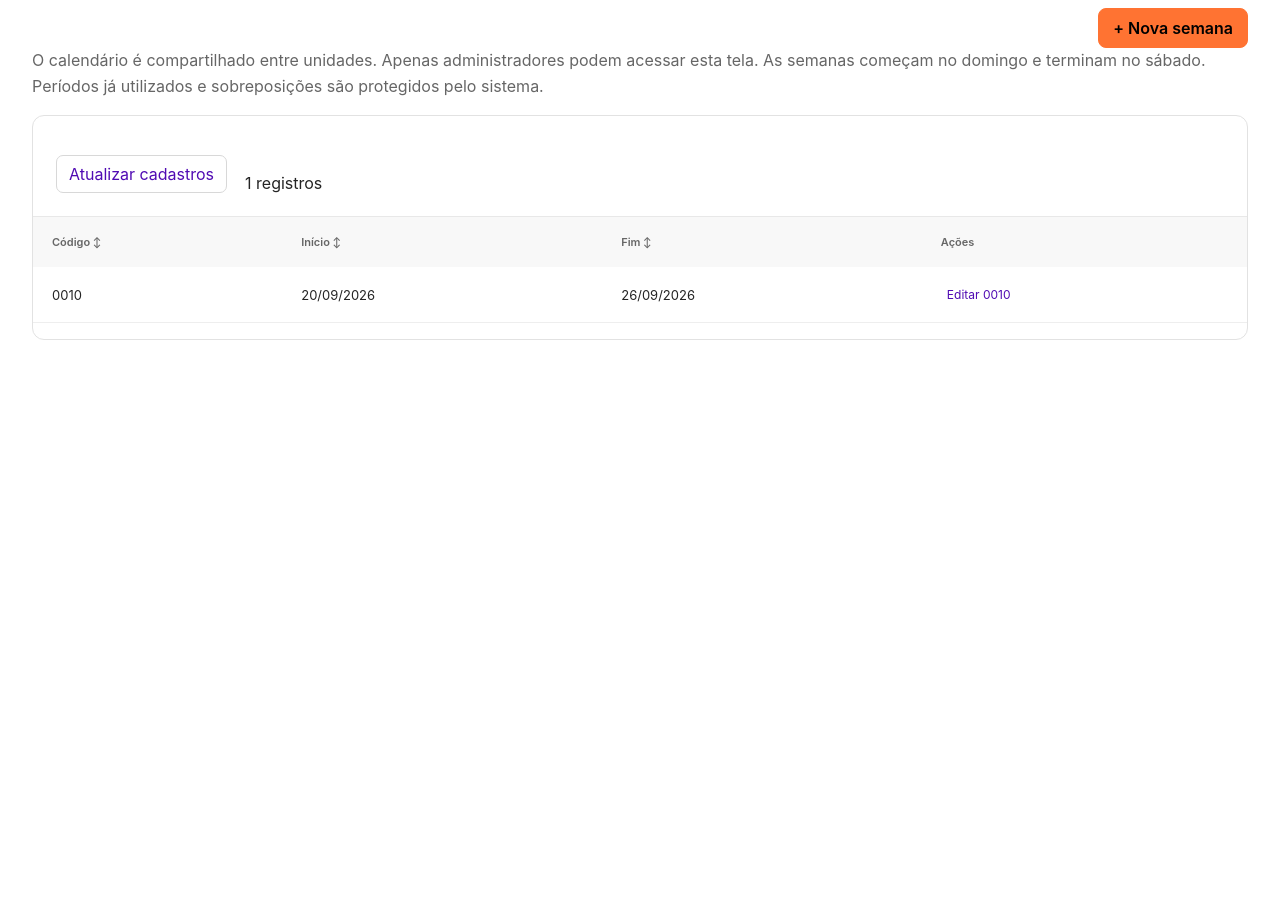
Test case: consulta a semana pelo código como no VBA e salva no registro existente
This screenshot has width=1280, height=900.
Expected: the button "Editar 0010" is shown, [941,286,1016,303]
Click the button "+ Nova semana" at (1173, 28), box [1098,8,1248,48]
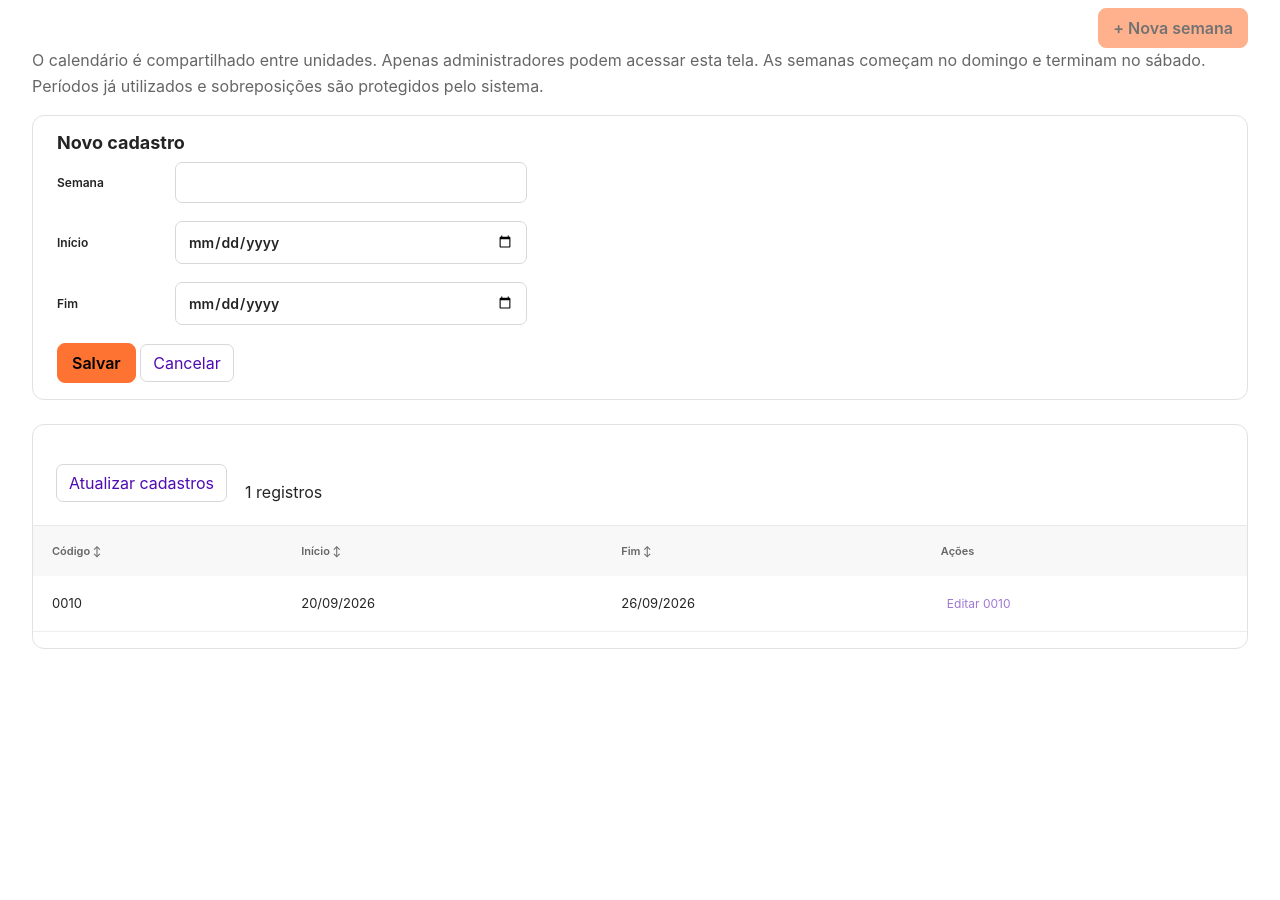
Type "0010" into the field named "Código" at (351, 182), box [175,162,527,203]
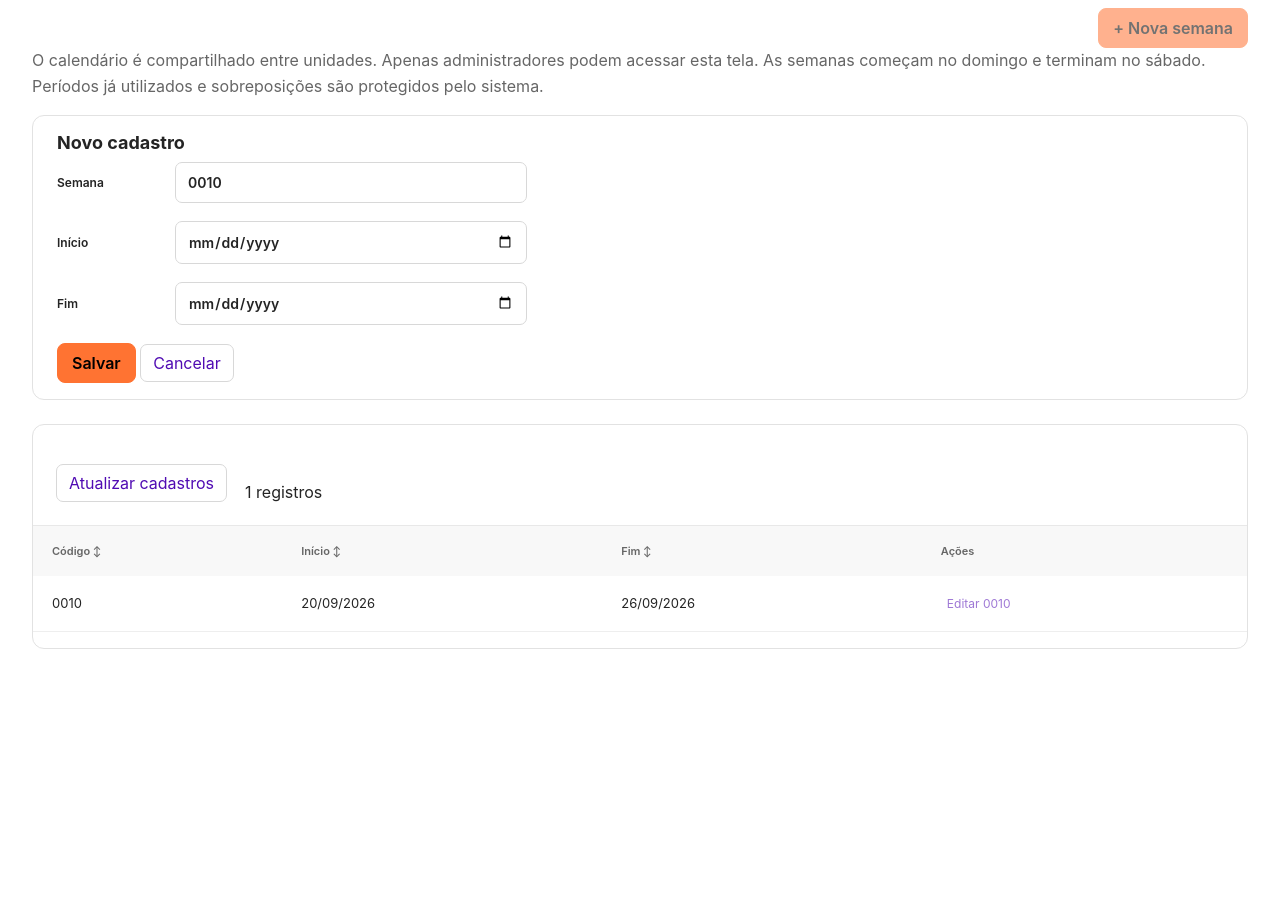
Leave the field named "Código", box [175,162,527,203]
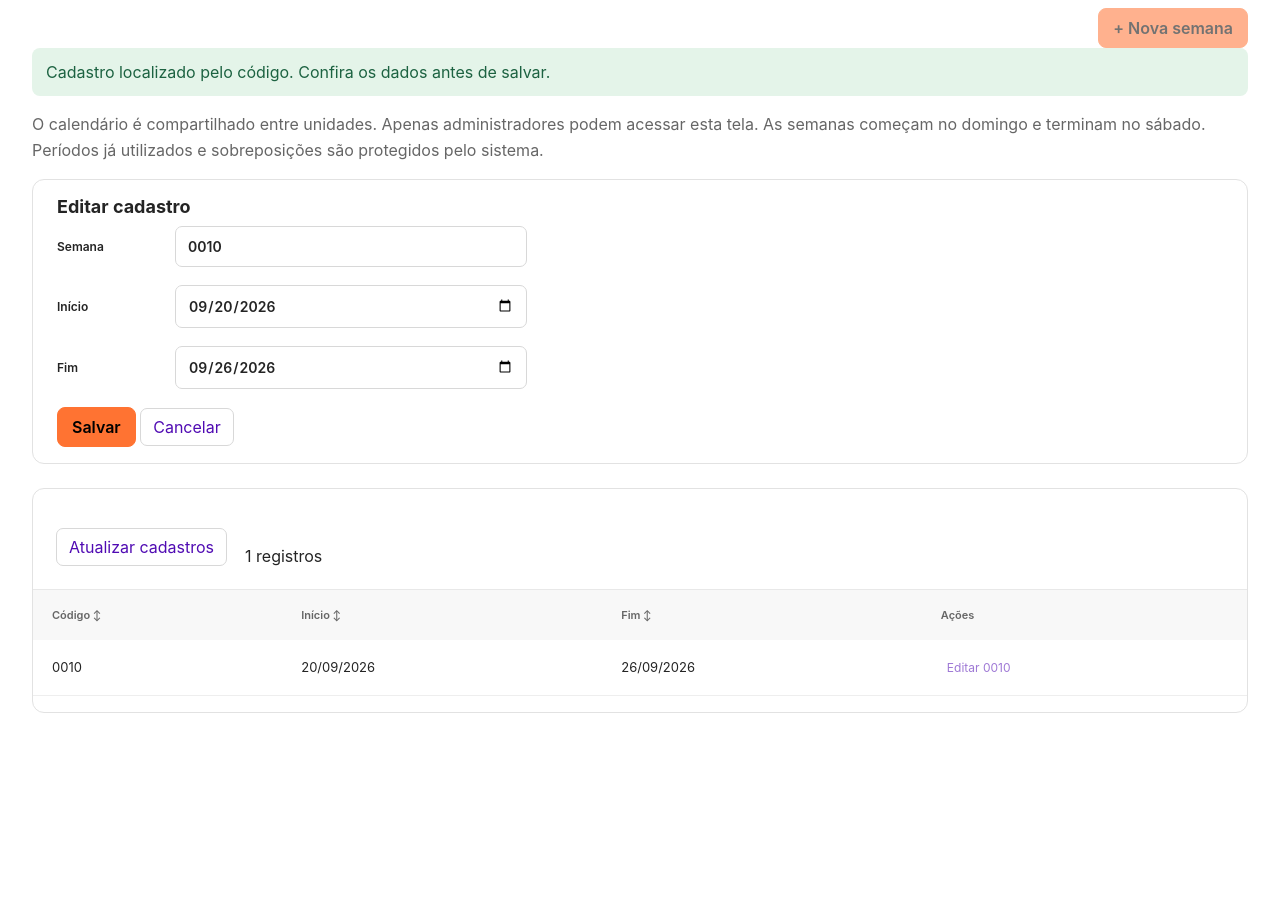
Now the date field named "Data inicial" holds "2026-09-20", box [175,285,527,328]
Click the button with aria-label "Salvar cadastro" at (96, 427), box [57,407,136,447]
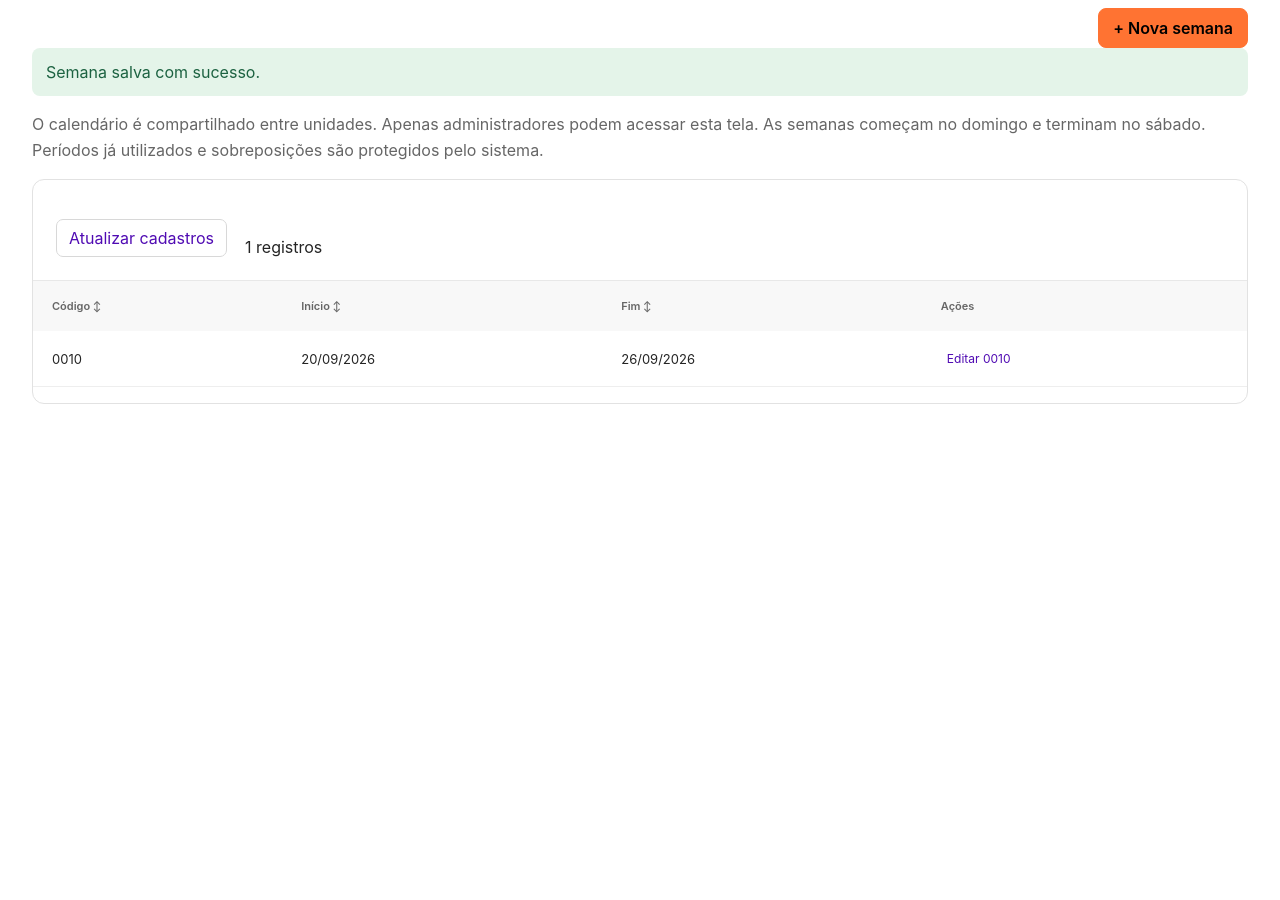
Now the text "Semana salva com sucesso." is shown, box [32,48,1248,96]
